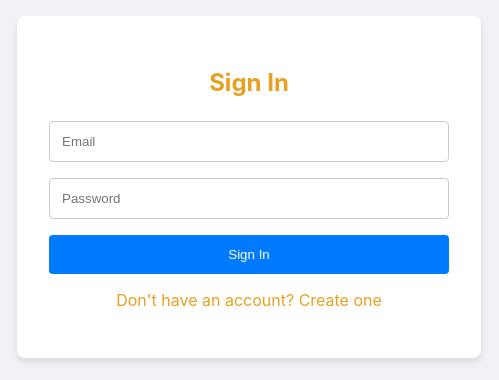
Test: Login Component › switches to Sign Up form when clicking the link
Click the button with test id "switch-to-signup" at point(249, 300), box [116,290,382,310]
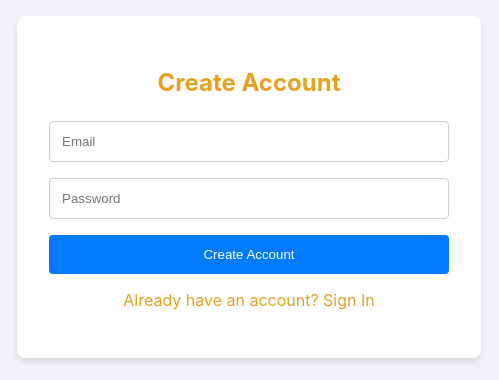
Now the form with test id "signup-form" is shown, box [49,48,449,326]
Now the heading "Create Account" is shown, box [158,68,340,97]
